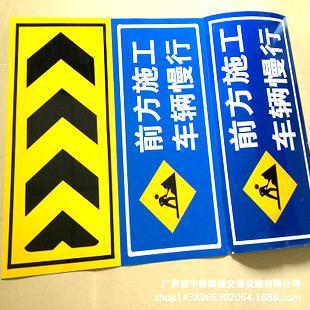sign: (10, 21, 295, 257)
